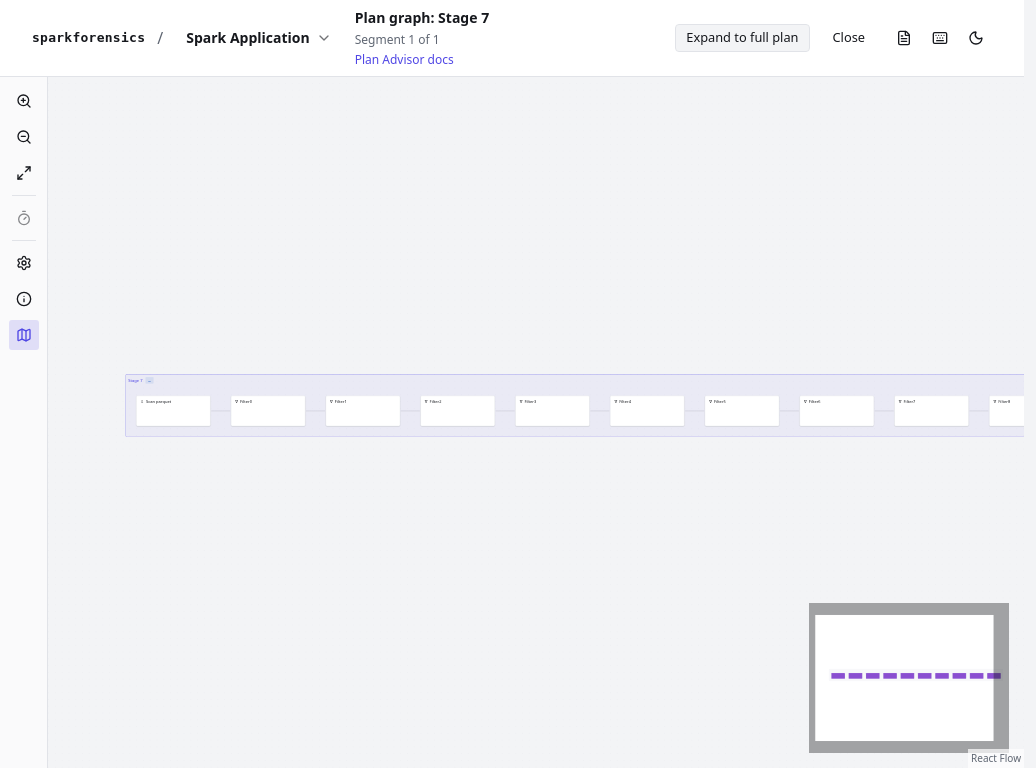
Test case: expanding a plan under the 300-node threshold proceeds immediately with no dialog
The image size is (1036, 768).
Step 1. Click the button "Expand to full plan" → {"x": 742, "y": 38}, box [675, 24, 810, 52]
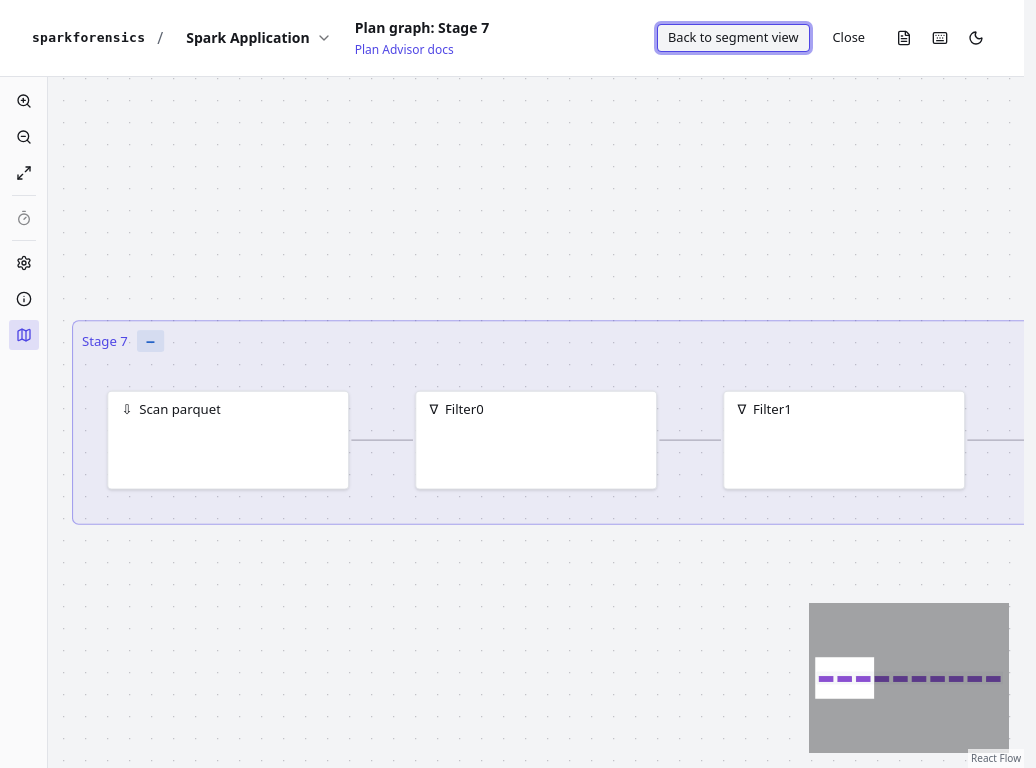
expect the button "Back to segment view" is shown: met, box [657, 24, 810, 52]
